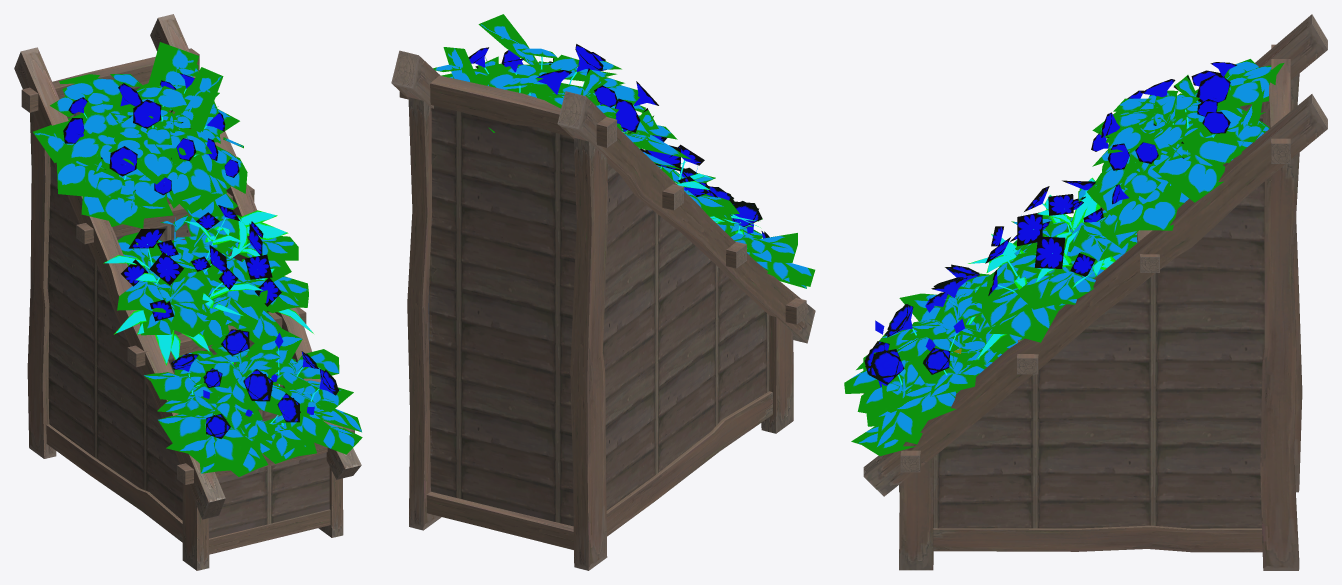
File: Homeworld_Exterior_Dq_Flower_Cluster_01_Lod0.fbx
The picture shows the model from 3 angles, left to right: view 1: azimuth 30°, elevation 25°; view 2: azimuth 150°, elevation 25°; view 3: azimuth 270°, elevation 25°; orthographic projection. The views are drawn at different scales.
Visible parts, largest first — view 1: Area_Dq_Prop_Common_CityFlower_02_Lod0, Area_Dq_Prop_Common_CityCluster_02_Lod0; view 2: Area_Dq_Prop_Common_CityCluster_02_Lod0, Area_Dq_Prop_Common_CityFlower_02_Lod0; view 3: Area_Dq_Prop_Common_CityCluster_02_Lod0, Area_Dq_Prop_Common_CityFlower_02_Lod0.
Part boxes in pixels (x1,y1,x2,y2): Area_Dq_Prop_Common_CityFlower_02_Lod0: (33,42,362,476); Area_Dq_Prop_Common_CityCluster_02_Lod0: (14,14,361,570); Area_Dq_Prop_Common_CityCluster_02_Lod0: (391,50,815,570); Area_Dq_Prop_Common_CityFlower_02_Lod0: (433,14,815,288); Area_Dq_Prop_Common_CityCluster_02_Lod0: (863,14,1327,570); Area_Dq_Prop_Common_CityFlower_02_Lod0: (844,59,1284,455).
Size of the model in its own units: 0.9204 by 1.73 by 1.62.
